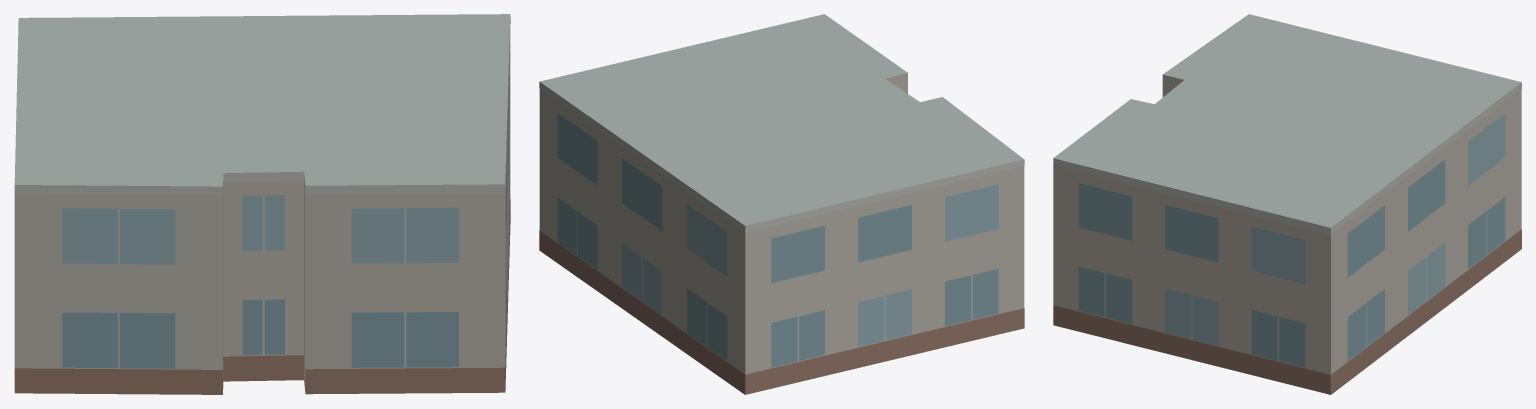
Rendered from survey-upis-32924140.glb.
3 renders of one model, left to right at view 1: azimuth 30°, elevation 25°; view 2: azimuth 150°, elevation 25°; view 3: azimuth 270°, elevation 25°, orthographic. The views are drawn at different scales.
Visible parts, largest first — view 1: survey-upis-32924140.tmp; view 2: survey-upis-32924140.tmp; view 3: survey-upis-32924140.tmp.
Boxes of the visible parts, x1=… form: survey-upis-32924140.tmp: x1=14, y1=14, x2=510, y2=394; survey-upis-32924140.tmp: x1=539, y1=14, x2=1024, y2=394; survey-upis-32924140.tmp: x1=1053, y1=14, x2=1521, y2=394.
Size of the model in its own units: 16.77 by 6.1 by 15.52.
